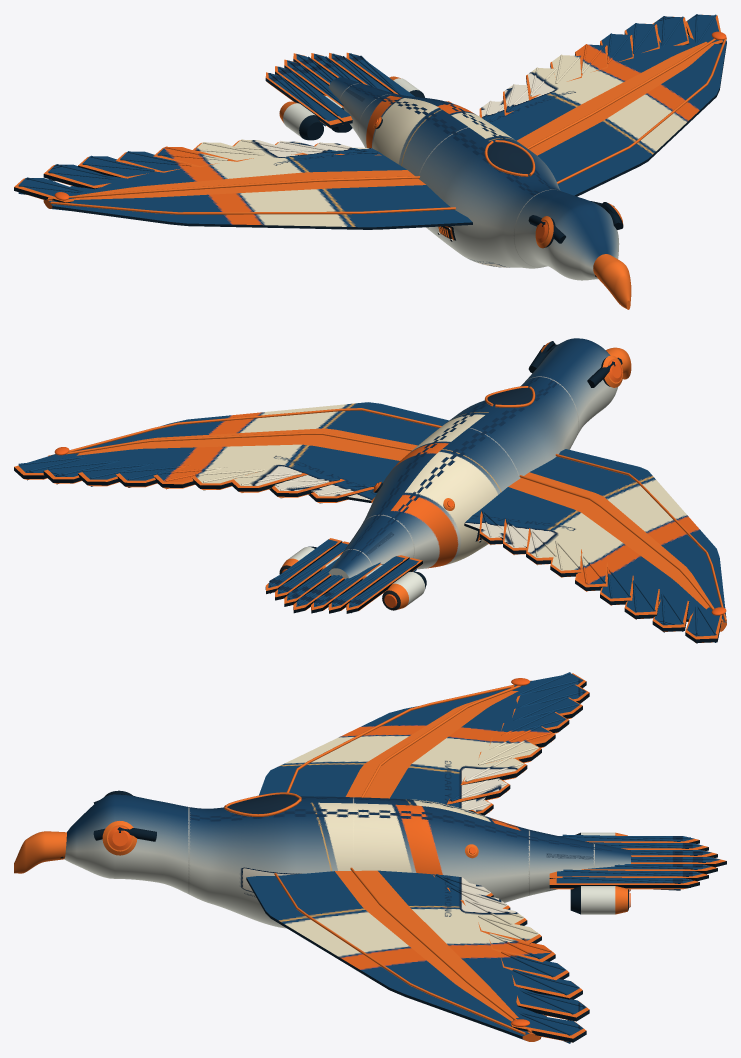
3 views of the same model, one above another, from view 1: azimuth 30°, elevation 25°; view 2: azimuth 150°, elevation 25°; view 3: azimuth 270°, elevation 25° (orthographic). The views are drawn at different scales.
Visible parts, largest first — view 1: falcon_hull; view 2: falcon_hull; view 3: falcon_hull.
Boxes of the visible parts, x1=… form: falcon_hull: x1=14, y1=14, x2=726, y2=309; falcon_hull: x1=14, y1=338, x2=726, y2=643; falcon_hull: x1=14, y1=672, x2=726, y2=1043.
Size of the model in its own units: 68 by 10.83 by 56.07.
1 material, 1 textured.
